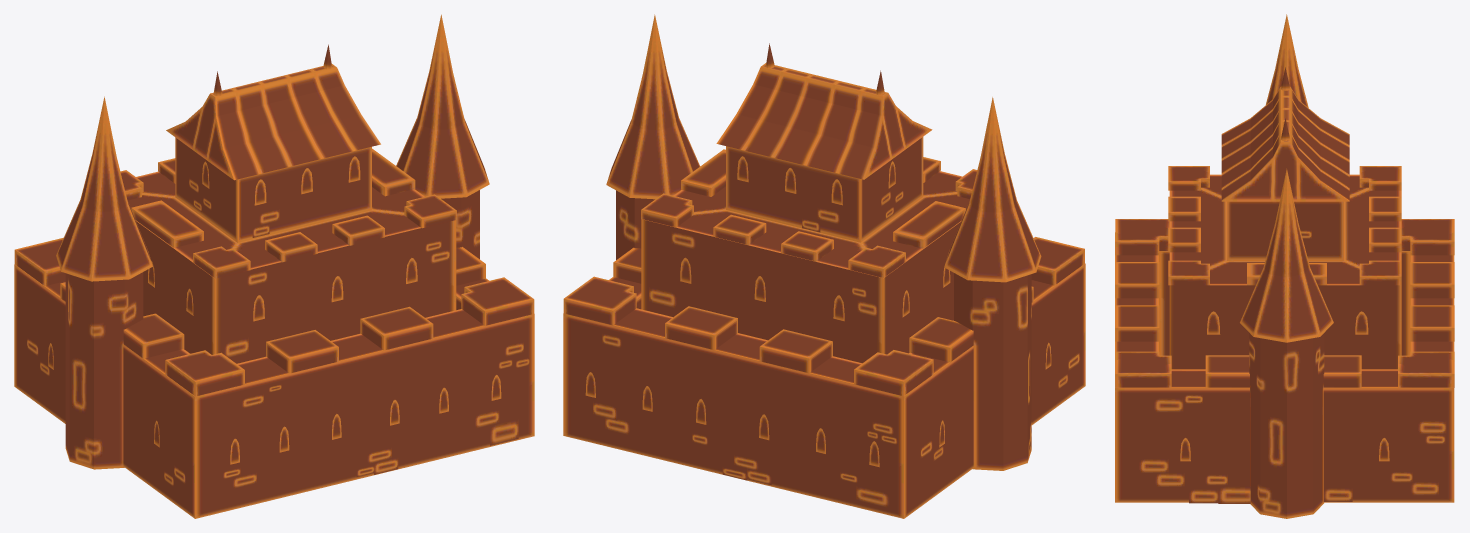
The model's file is RedCastle.glb.
3 views of the same model, side by side, from view 1: azimuth 30°, elevation 25°; view 2: azimuth 150°, elevation 25°; view 3: azimuth 270°, elevation 25° (orthographic). The views are drawn at different scales.
Visible parts, largest first — view 1: RedCastle; view 2: RedCastle; view 3: RedCastle.
Boxes of the visible parts, left/top/right/bottom form: RedCastle: left=14, top=14, right=534, bottom=518; RedCastle: left=563, top=14, right=1085, bottom=518; RedCastle: left=1115, top=14, right=1454, bottom=518.
Size of the model in its own units: 0.4331 by 0.3487 by 0.3221.
Materials: 1 (1 with a texture image).
